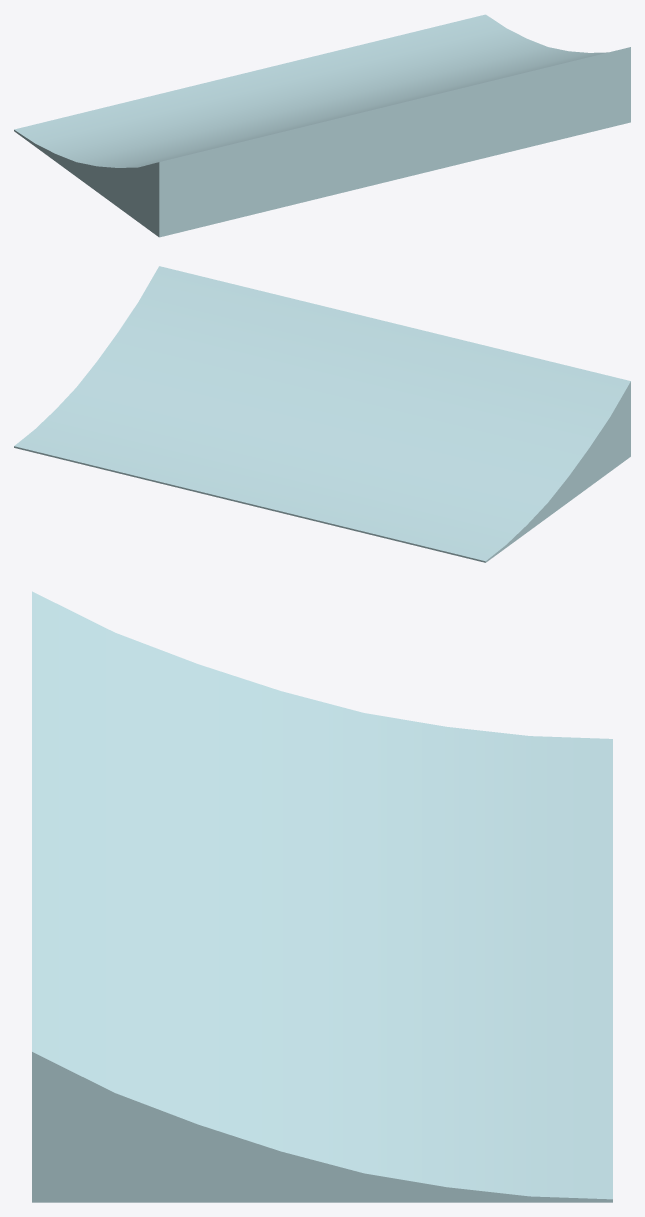
Rendered from SM_Ramp_01.glb.
3 renders of one model, top to bottom at view 1: azimuth 30°, elevation 25°; view 2: azimuth 150°, elevation 25°; view 3: azimuth 270°, elevation 25°, orthographic. The views are drawn at different scales.
Parts seen in each view (by area): view 1: SM_Ramp_01; view 2: SM_Ramp_01; view 3: SM_Ramp_01.
Part boxes in pixels (bbox=[...]): SM_Ramp_01: bbox=[14, 14, 630, 237]; SM_Ramp_01: bbox=[14, 266, 630, 562]; SM_Ramp_01: bbox=[32, 591, 612, 1202].
Bounding box in the file's own units: 7.86 × 1.2 × 4.19.
